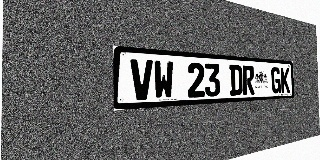2: (188, 62, 205, 98)
3: (205, 63, 220, 97)
D: (229, 65, 243, 96)
G: (271, 67, 281, 94)
K: (281, 67, 290, 93)
R: (242, 65, 255, 95)
V: (130, 59, 153, 101)
W: (153, 60, 174, 99)
